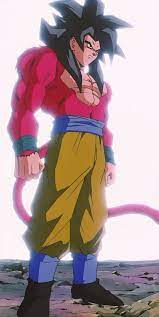Songoku: (59, 12, 111, 73)
